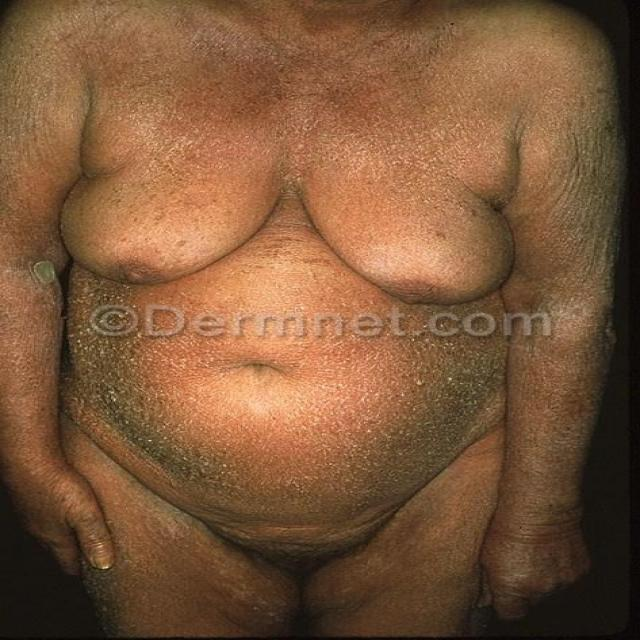Eczema: (72, 286, 494, 502), (92, 59, 488, 227)
